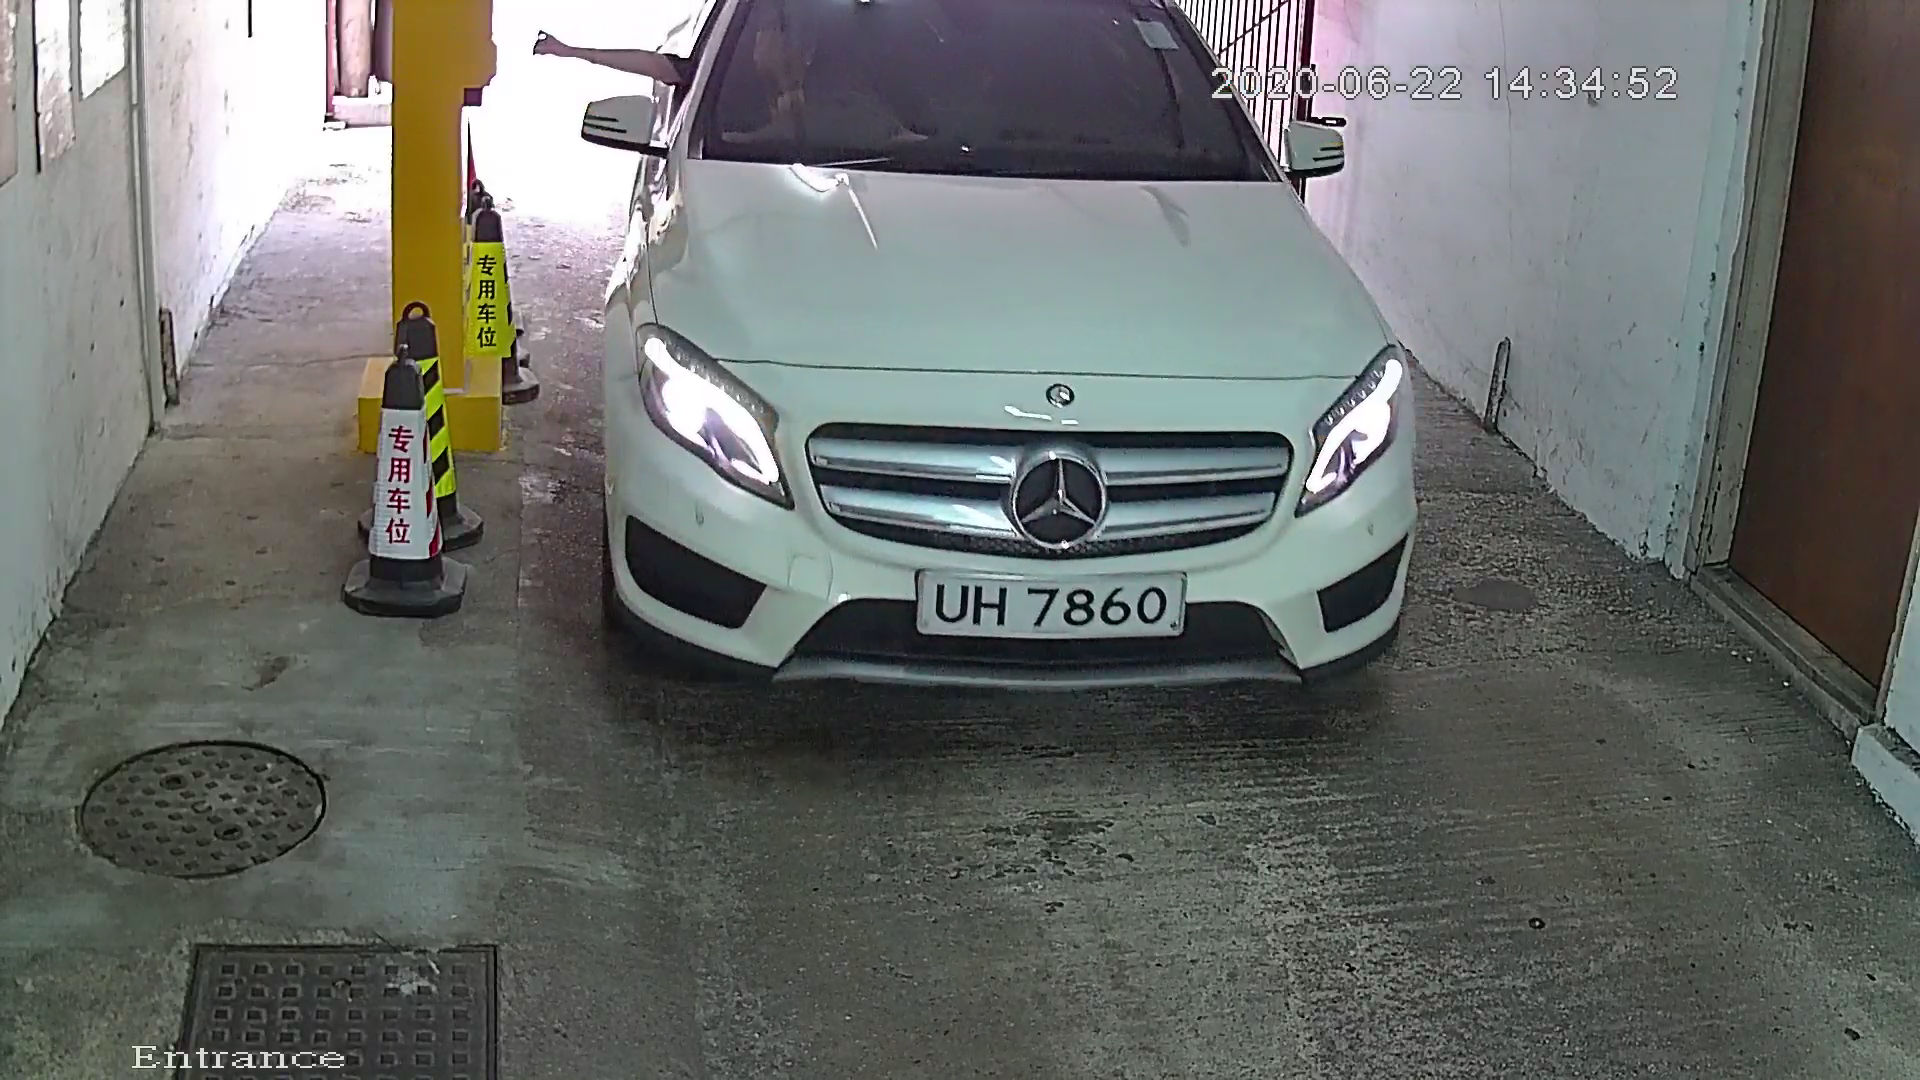privatecar: (553, 3, 1489, 766)
